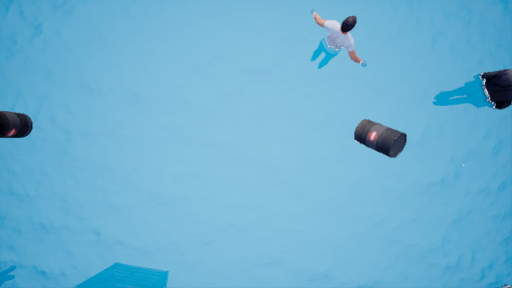person: (305, 16, 367, 68)
